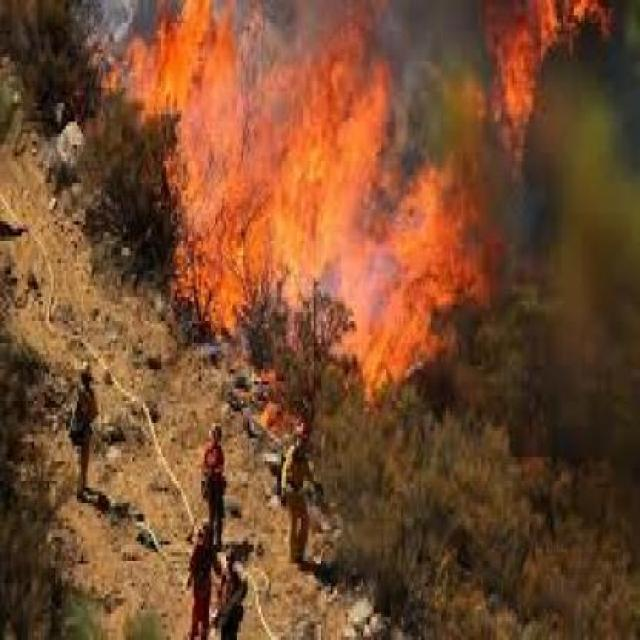Fire: (135, 2, 567, 423)
